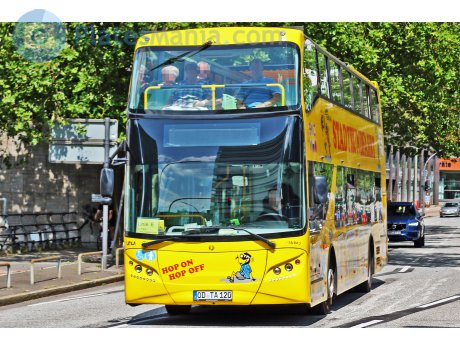License Plates: (194, 290, 227, 296)
